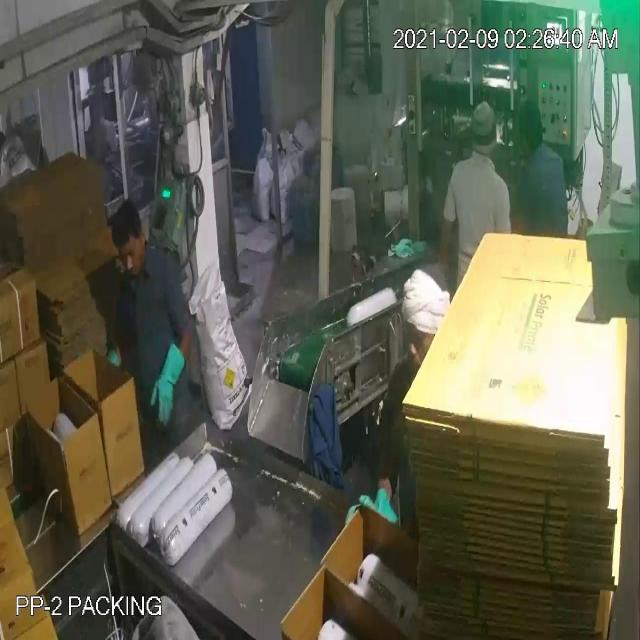Gloves: (26, 81, 446, 380)
